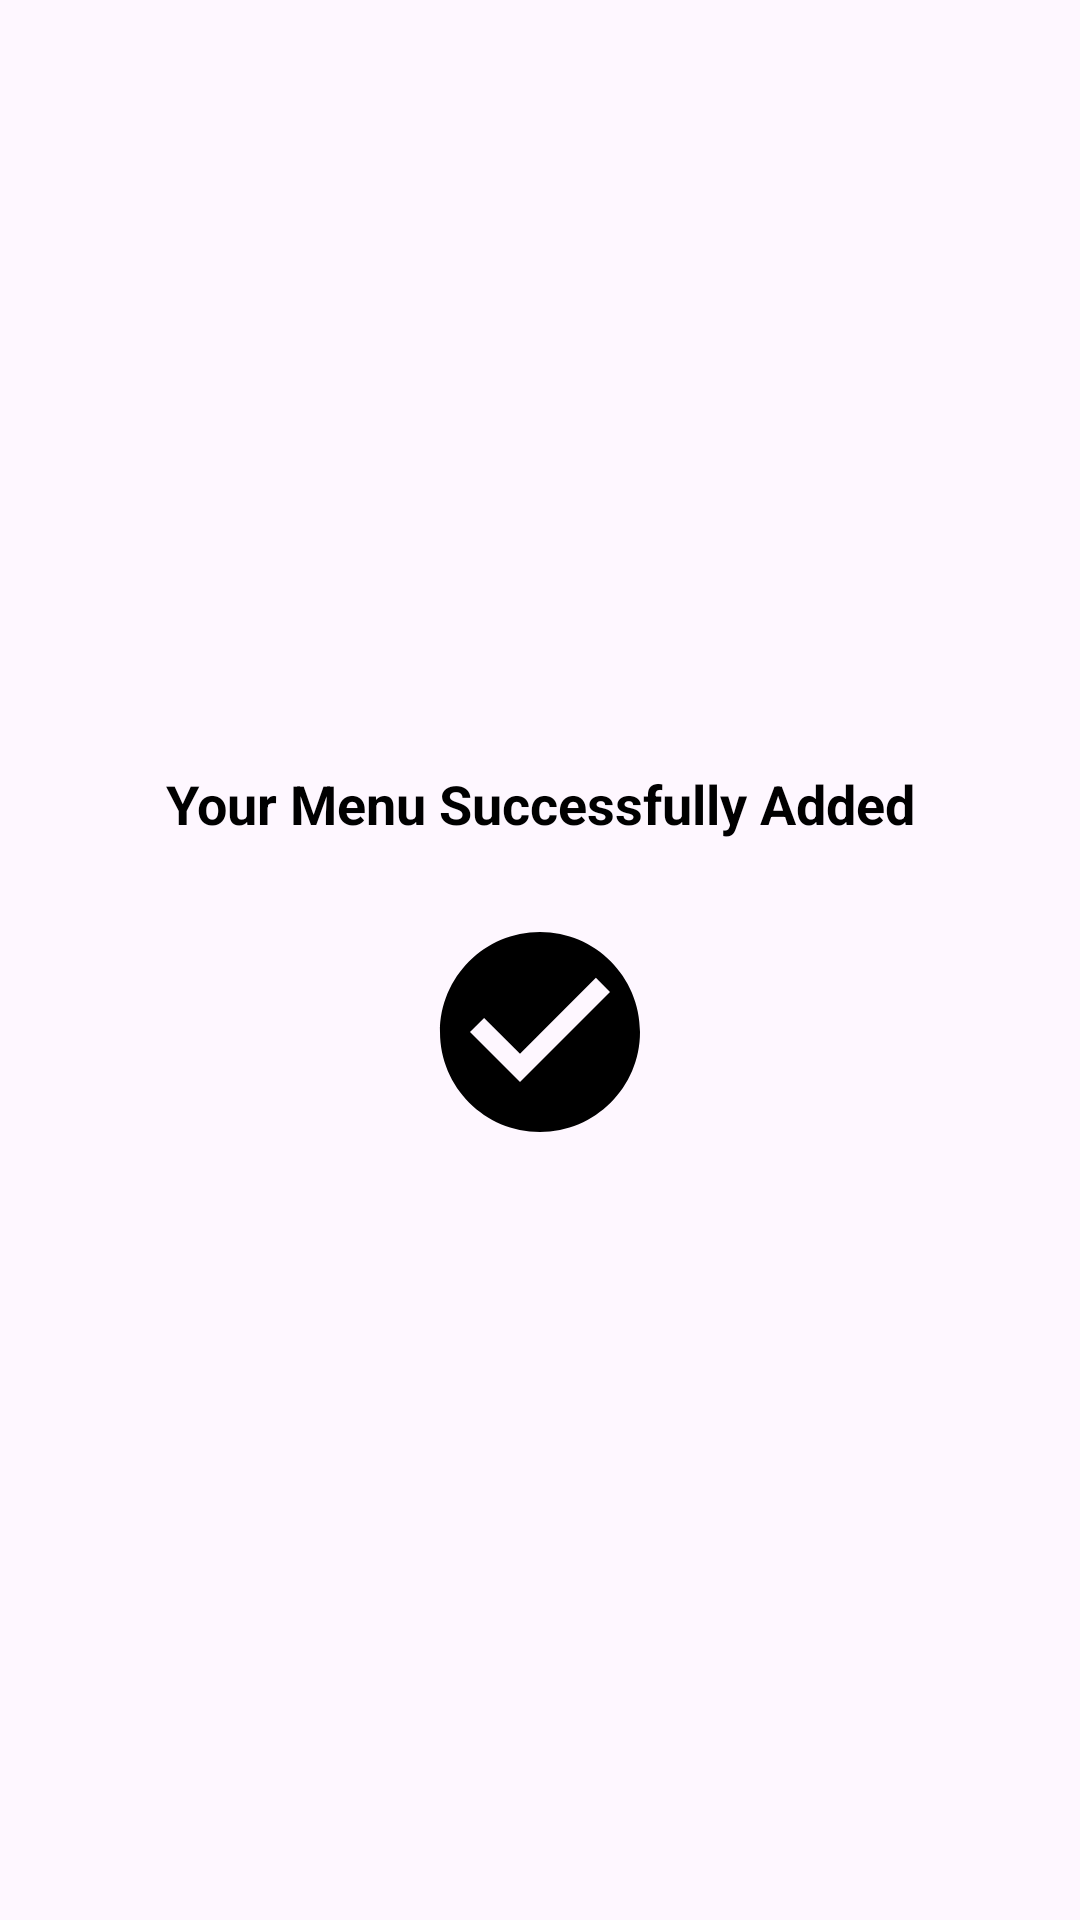

Where icons sit on this 1080*1920 app screen, as (x1, y1, x2, y2):
success check: (439, 932, 640, 1132)
